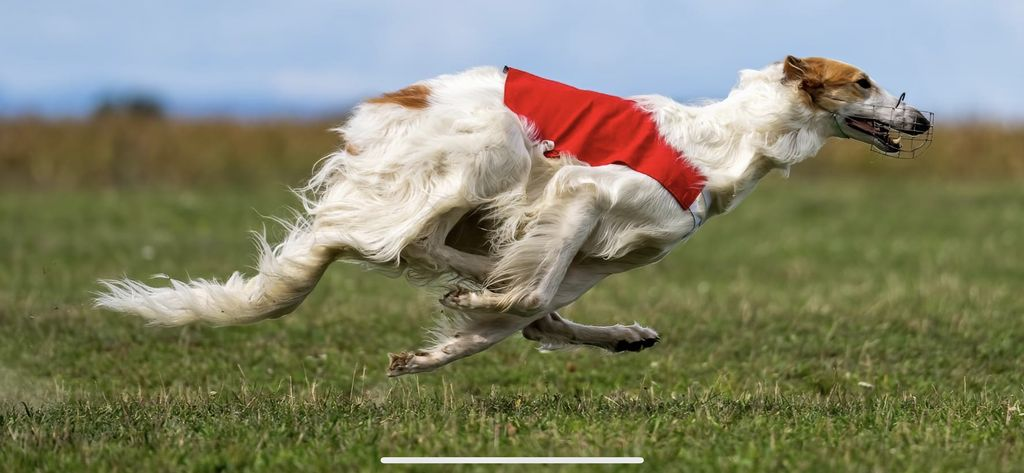borzoi: (108, 51, 982, 396)
